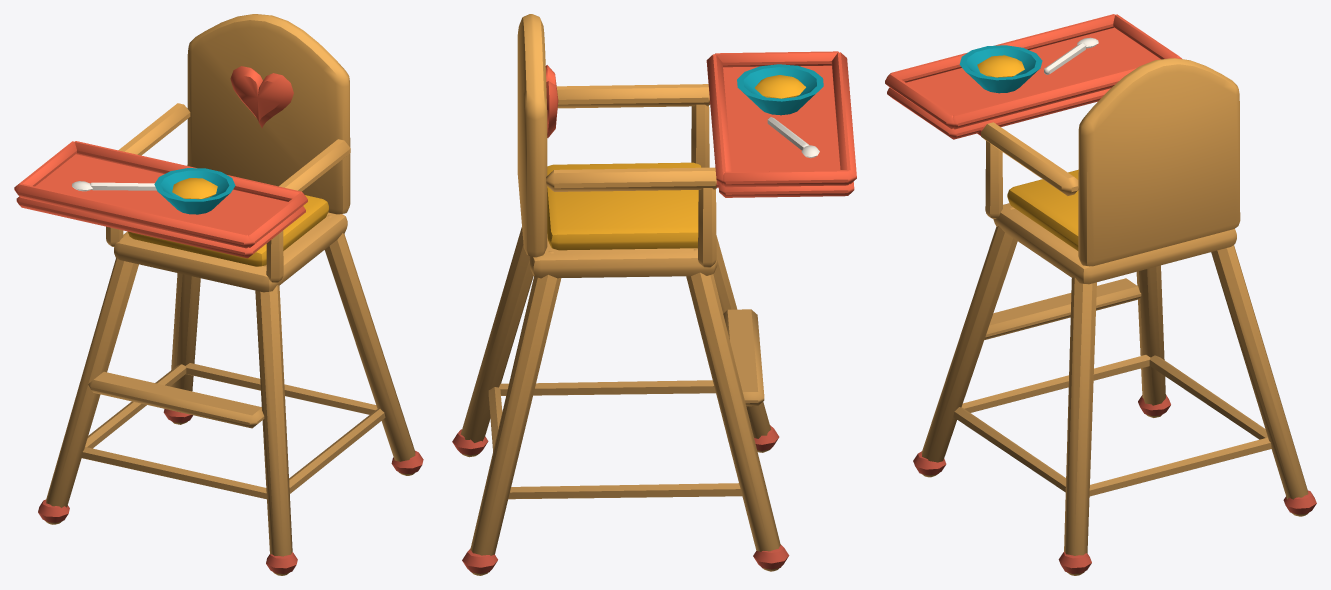
Rendered from high_chair.glb.
3 views of the same model, side by side, from view 1: azimuth 30°, elevation 25°; view 2: azimuth 150°, elevation 25°; view 3: azimuth 270°, elevation 25° (orthographic). The views are drawn at different scales.
Visible parts, largest first — view 1: high_chair; view 2: high_chair; view 3: high_chair.
Boxes of the visible parts, <box> form: high_chair: <box>14,14,423,575</box>; high_chair: <box>452,14,856,575</box>; high_chair: <box>885,14,1316,575</box>.
Size of the model in its own units: 0.934 by 1.05 by 0.88.
